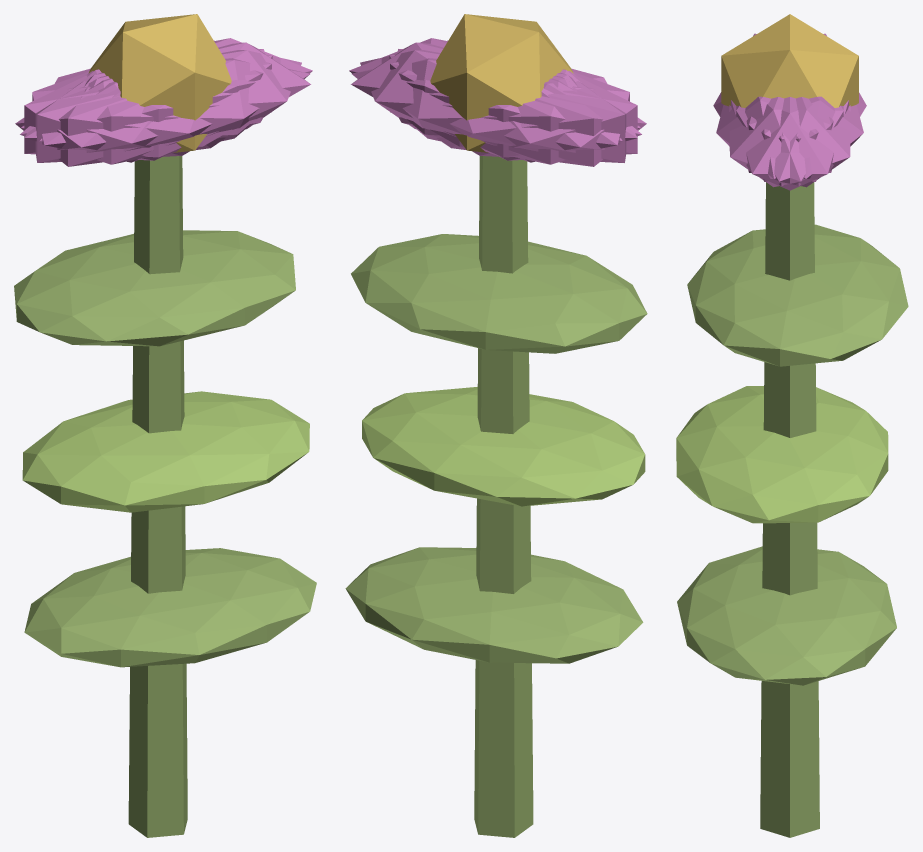
Rendered from thaumatophyllum-xanadu.glb.
3 views of the same model, side by side, from view 1: azimuth 30°, elevation 25°; view 2: azimuth 150°, elevation 25°; view 3: azimuth 270°, elevation 25° (orthographic).
Visible parts, largest first — view 1: stem, leaf1, leaf0, leaf2, center, petal1, petal6, petal2, petal5, petal7, petal0, petal4 (+2 smaller); view 2: stem, leaf2, leaf0, leaf1, center, petal8, petal3, petal7, petal4, petal2, petal0, petal5 (+2 smaller); view 3: leaf2, leaf0, leaf1, stem, center, petal0, petal5, petal4, petal8, petal1.
Part boxes in pixels (x1,y1,x2,y2): stem: [128, 156, 187, 837]; leaf1: [22, 391, 309, 512]; leaf0: [24, 548, 316, 667]; leaf2: [14, 230, 295, 346]; center: [88, 14, 231, 152]; petal1: [20, 58, 309, 164]; petal6: [15, 71, 225, 166]; petal2: [35, 49, 264, 162]; petal5: [39, 50, 301, 157]; petal7: [24, 55, 272, 160]; petal0: [88, 42, 310, 147]; petal4: [21, 38, 312, 138]; stem: [474, 156, 533, 837]; leaf2: [351, 234, 647, 353]; leaf0: [345, 547, 643, 663]; leaf1: [362, 387, 645, 506]; center: [430, 14, 573, 152]; petal8: [352, 58, 641, 164]; petal3: [436, 71, 646, 166]; petal7: [398, 49, 626, 162]; petal4: [360, 50, 622, 157]; petal2: [389, 55, 637, 160]; petal0: [351, 42, 573, 147]; petal5: [349, 38, 640, 138]; leaf2: [687, 224, 908, 366]; leaf0: [677, 546, 896, 685]; leaf1: [676, 386, 888, 523]; stem: [760, 182, 819, 837]; center: [721, 14, 858, 107]; petal0: [731, 97, 848, 190]; petal5: [729, 97, 843, 187]; petal4: [736, 97, 850, 187]; petal8: [746, 96, 863, 178]; petal1: [716, 96, 833, 178].
Size of the model in its own units: 0.1452 by 0.3896 by 0.1034.
